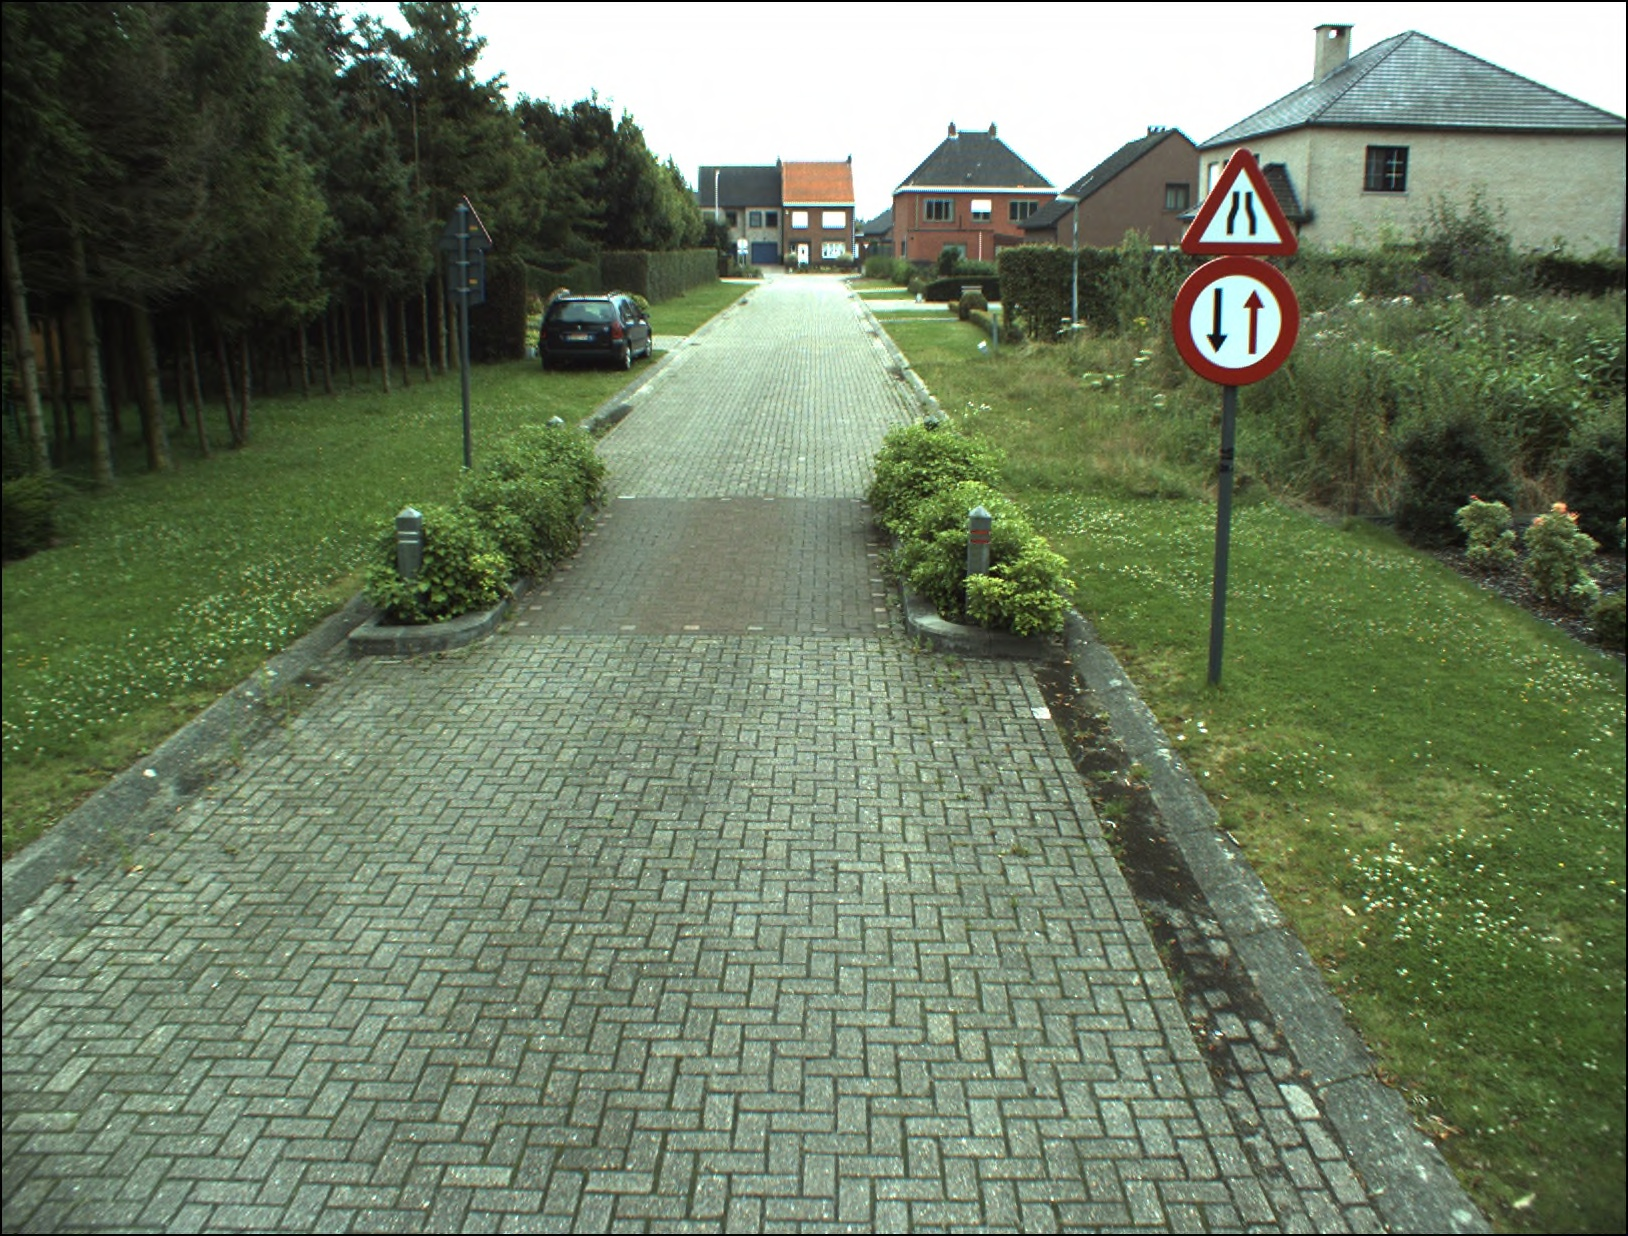roadnarrow2: (1167, 254, 1306, 386)
